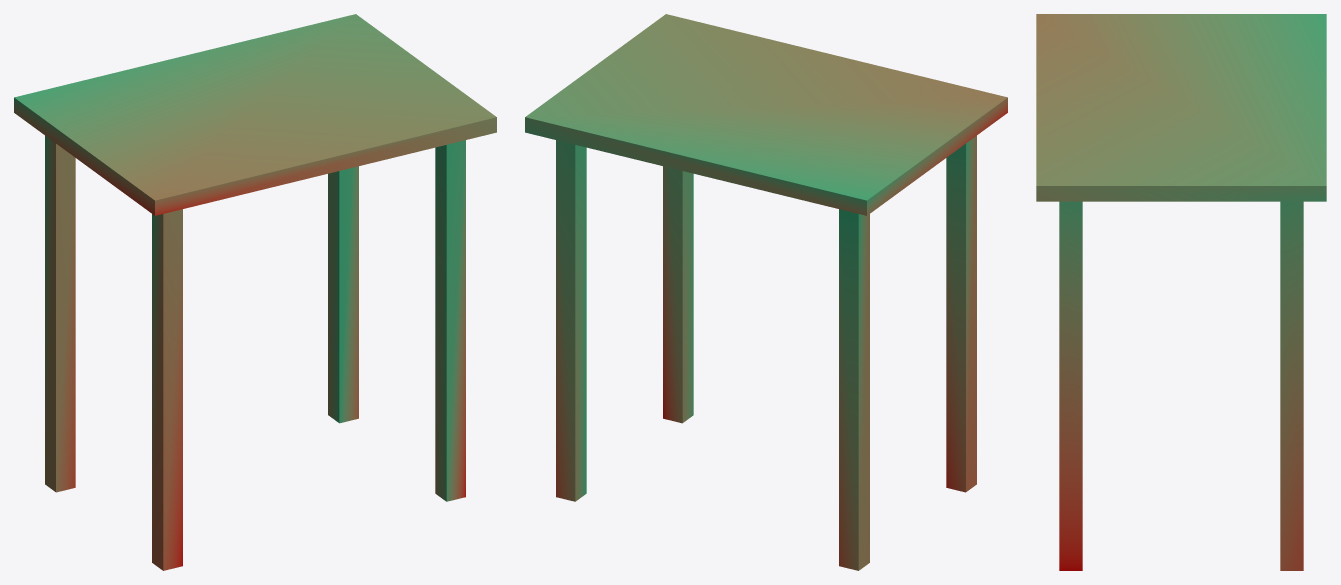
Rendered from deviation.glb.
3 renders of one model, left to right at view 1: azimuth 30°, elevation 25°; view 2: azimuth 150°, elevation 25°; view 3: azimuth 270°, elevation 25°, orthographic. The views are drawn at different scales.
Visible parts, largest first — view 1: deviation map; view 2: deviation map; view 3: deviation map.
Part boxes in pixels (x1,y1,x2,y2): deviation map: [14, 14, 496, 570]; deviation map: [525, 14, 1007, 570]; deviation map: [1036, 14, 1326, 570].
Bounding box in the file's own units: 0.7 × 0.75 × 0.5.
